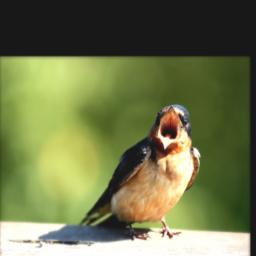Swallow: (78, 103, 202, 241)
